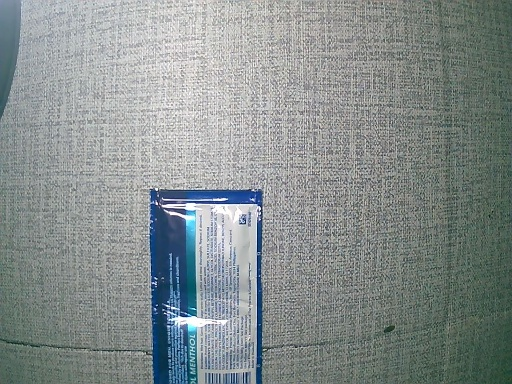plastic: (145, 185, 274, 384)
